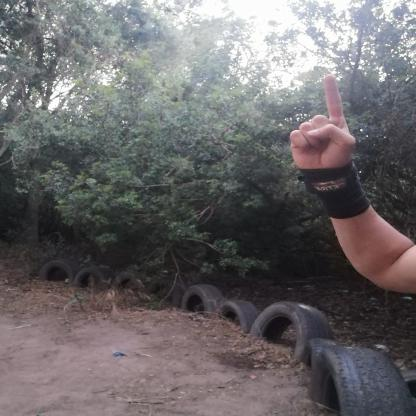BAA: (276, 66, 368, 183)
